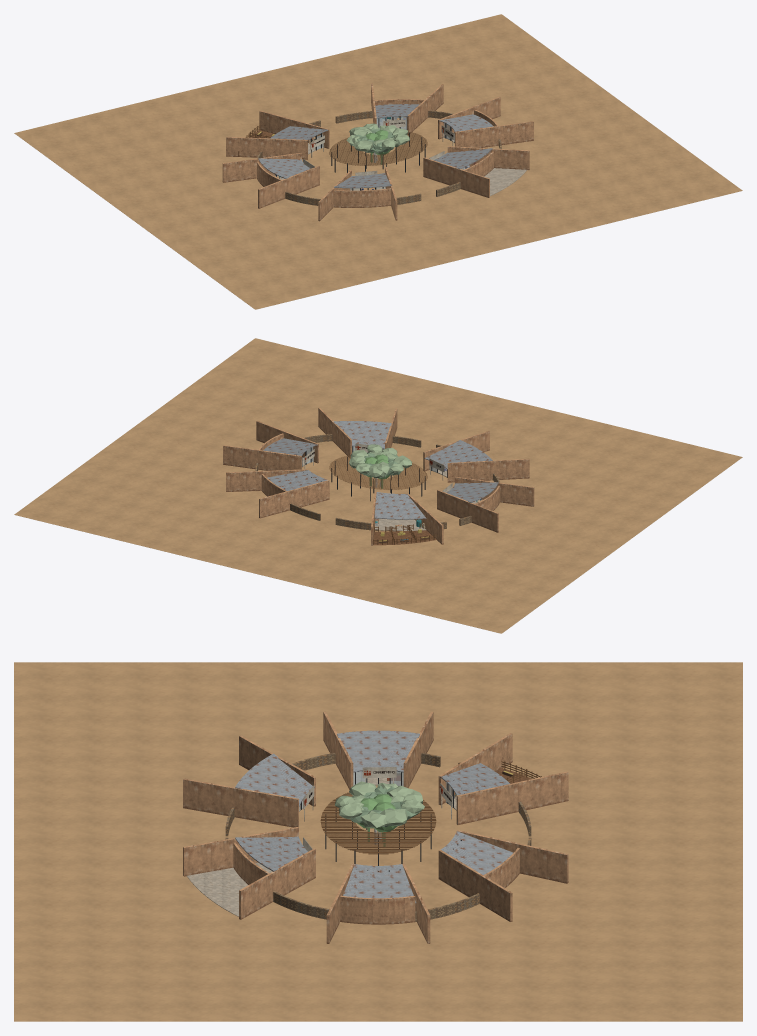
The model's file is SkillsCentre_Environment.fbx.
3 views of the same model, one above another, from view 1: azimuth 30°, elevation 25°; view 2: azimuth 150°, elevation 25°; view 3: azimuth 270°, elevation 25° (orthographic). The views are drawn at different scales.
Parts seen in each view (by area): view 1: Ground, Agriculture_Shelter_RadialWalls, Metal_Workshop_RadialWalls, Leather_Wood_Workshop_RadialWalls, Community_Office_RadialWalls, CircleWall_Building, Latte_Canopy, Centre_Tree_Foliage, CircleWall_Courtyard, Sewing_Ablutions_RadialWalls, ICT_Hub_RadialWalls, Community_Office_Roof (+6 smaller); view 2: Ground, Sewing_Ablutions_RadialWalls, Leather_Wood_Workshop_RadialWalls, ICT_Hub_RadialWalls, Community_Office_RadialWalls, Latte_Canopy, Centre_Tree_Foliage, CircleWall_Courtyard, Agriculture_Shelter_Roof, Metal_Workshop_Roof, Metal_Workshop_RadialWalls, ICT_Hub_Roof (+7 smaller); view 3: Ground, Agriculture_Shelter_RadialWalls, ICT_Hub_RadialWalls, Metal_Workshop_RadialWalls, Sewing_Ablutions_RadialWalls, CircleWall_Building, Latte_Canopy, Centre_Tree_Foliage, Community_Office_Roof, CircleWall_Courtyard, Community_Office_RadialWalls, Leather_Wood_Workshop_Roof (+6 smaller).
Boxes of the visible parts, x1,y1,x2,y2 form: Ground: [14, 14, 742, 309]; Agriculture_Shelter_RadialWalls: [226, 110, 329, 159]; Metal_Workshop_RadialWalls: [423, 146, 529, 197]; Leather_Wood_Workshop_RadialWalls: [438, 97, 533, 147]; Community_Office_RadialWalls: [222, 153, 319, 208]; CircleWall_Building: [257, 99, 500, 207]; Latte_Canopy: [329, 131, 427, 165]; Centre_Tree_Foliage: [346, 123, 409, 153]; CircleWall_Courtyard: [257, 110, 501, 205]; Sewing_Ablutions_RadialWalls: [371, 83, 443, 134]; ICT_Hub_RadialWalls: [318, 167, 397, 221]; Community_Office_Roof: [258, 158, 310, 178]; Ground: [14, 338, 742, 633]; Sewing_Ablutions_RadialWalls: [226, 469, 329, 518]; Leather_Wood_Workshop_RadialWalls: [223, 421, 318, 470]; ICT_Hub_RadialWalls: [423, 431, 529, 482]; Community_Office_RadialWalls: [437, 477, 534, 532]; Latte_Canopy: [329, 455, 427, 489]; Centre_Tree_Foliage: [349, 444, 412, 477]; CircleWall_Courtyard: [255, 434, 499, 530]; Agriculture_Shelter_Roof: [374, 492, 426, 519]; Metal_Workshop_Roof: [333, 421, 391, 448]; Metal_Workshop_RadialWalls: [318, 407, 397, 457]; ICT_Hub_Roof: [424, 440, 492, 469]; Ground: [14, 662, 742, 1021]; Agriculture_Shelter_RadialWalls: [438, 733, 568, 824]; ICT_Hub_RadialWalls: [183, 735, 315, 827]; Metal_Workshop_RadialWalls: [183, 827, 315, 919]; Sewing_Ablutions_RadialWalls: [438, 830, 568, 921]; CircleWall_Building: [233, 842, 519, 924]; Latte_Canopy: [320, 792, 436, 854]; Centre_Tree_Foliage: [334, 781, 424, 827]; Community_Office_Roof: [337, 730, 419, 772]; CircleWall_Courtyard: [225, 753, 531, 921]; Community_Office_RadialWalls: [323, 711, 433, 789]; Leather_Wood_Workshop_Roof: [343, 864, 416, 903].
Size of the model in its own units: 140 by 8.39 by 120.
